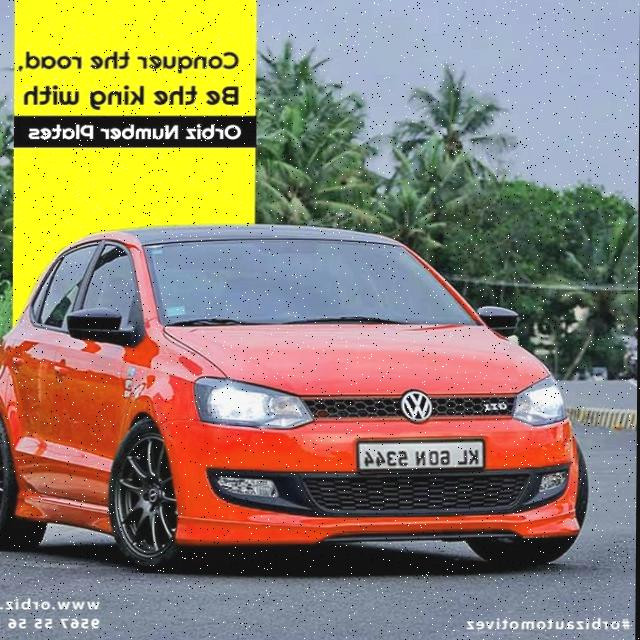plate: (358, 437, 488, 471)
